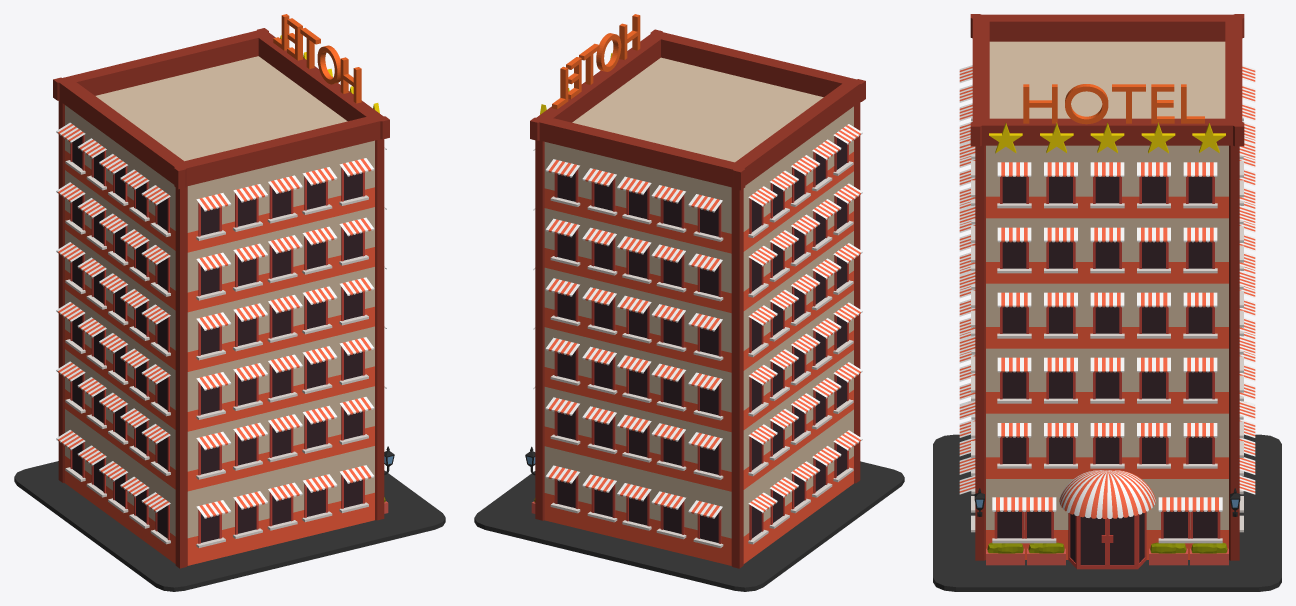
Rendered from hotel_h.glb.
The picture shows the model from 3 angles, left to right: view 1: azimuth 30°, elevation 25°; view 2: azimuth 150°, elevation 25°; view 3: azimuth 270°, elevation 25°; orthographic projection. The views are drawn at different scales.
Parts seen in each view (by area): view 1: PublicBuilding_1; view 2: PublicBuilding_1; view 3: PublicBuilding_1.
Boxes of the visible parts, <box> form: PublicBuilding_1: <box>14,14,445,591</box>; PublicBuilding_1: <box>474,14,904,591</box>; PublicBuilding_1: <box>933,14,1281,591</box>.
Bounding box in the file's own units: 6.9 × 10.09 × 6.67.
1 material, 1 textured.
